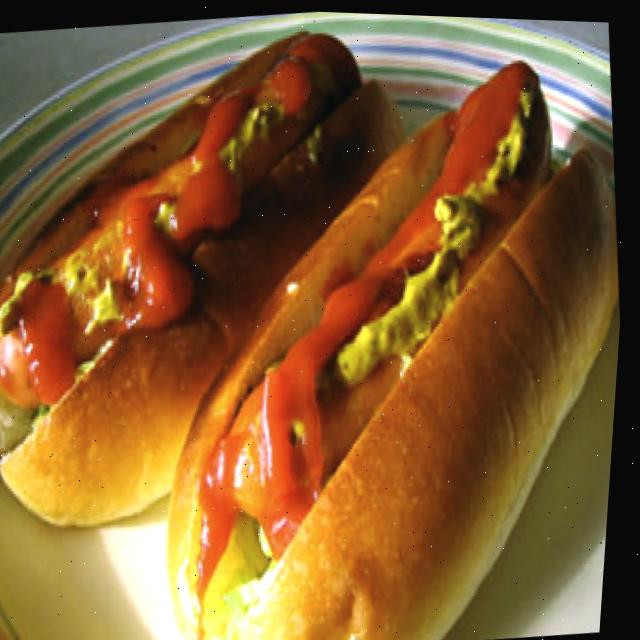汉堡快餐: (115, 35, 638, 640), (0, 5, 430, 523)
